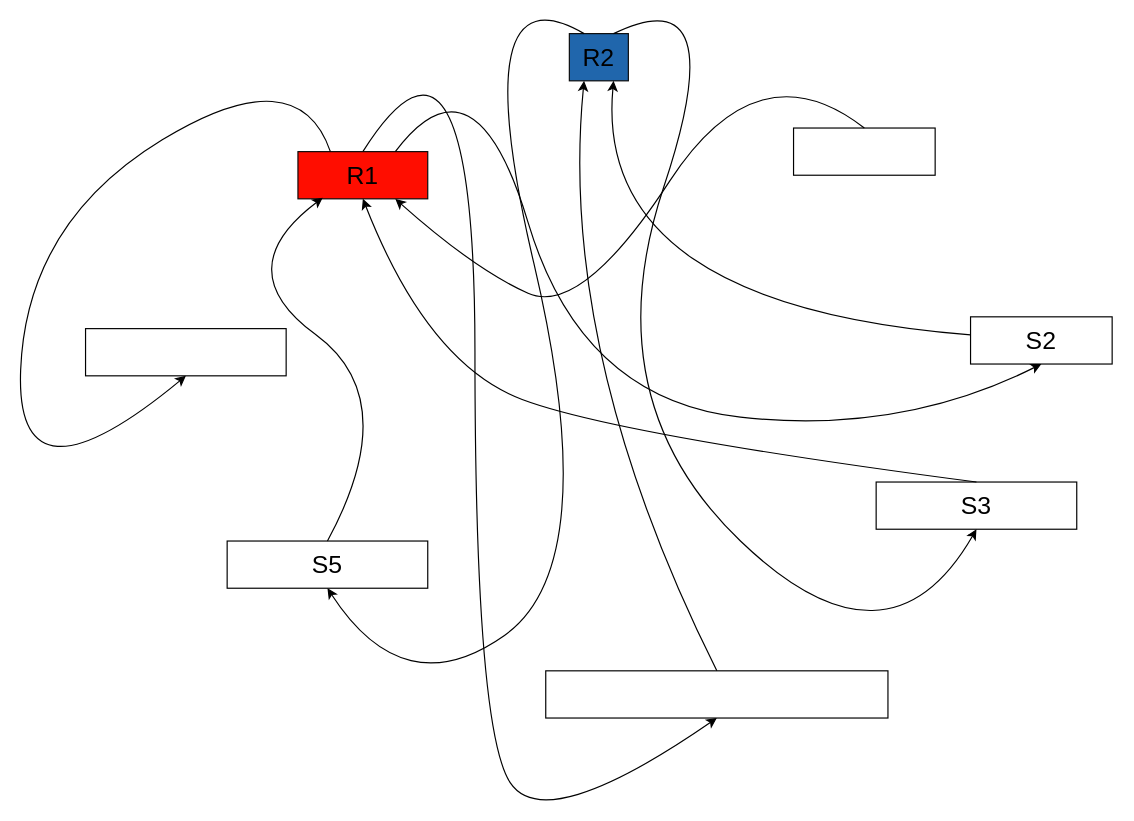
Image size: 1134x821. Some labels were removed from this diagram. The box of each missing label's shape, as (x1, y1, x2, y2) in pixels:
S1: (792, 127, 935, 175)
S4: (545, 670, 888, 718)
S6: (84, 327, 286, 376)
